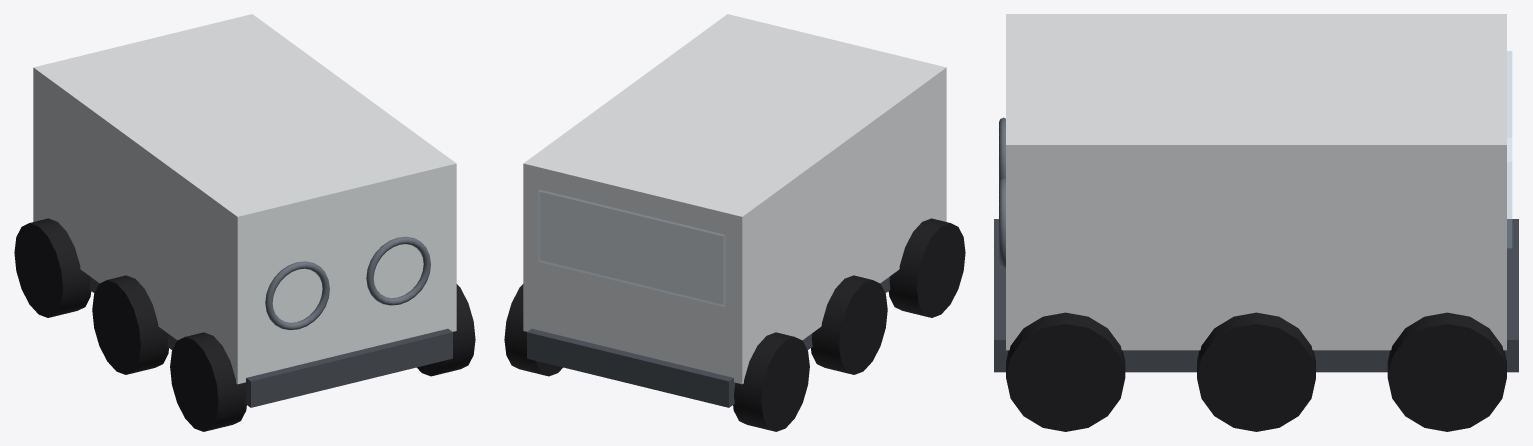
Rendered from pressurised_rover.glb.
3 views of the same model, side by side, from view 1: azimuth 30°, elevation 25°; view 2: azimuth 150°, elevation 25°; view 3: azimuth 270°, elevation 25° (orthographic). The views are drawn at different scales.
Visible parts, largest first — view 1: rover_white_plastic, rover_rubber, rover_dark_metal; view 2: rover_white_plastic, rover_rubber, rover_glass, rover_dark_metal; view 3: rover_white_plastic, rover_rubber, rover_dark_metal, rover_glass.
Part boxes in pixels (box(x1,y1,x2,y2)): rover_white_plastic: box(33, 14, 456, 384); rover_rubber: box(14, 218, 475, 431); rover_dark_metal: box(89, 236, 452, 407); rover_white_plastic: box(523, 14, 946, 384); rover_rubber: box(504, 218, 965, 431); rover_glass: box(538, 190, 724, 306); rover_dark_metal: box(527, 276, 890, 407); rover_white_plastic: box(1006, 14, 1506, 350); rover_rubber: box(1006, 312, 1506, 431); rover_dark_metal: box(994, 117, 1518, 372); rover_glass: box(1507, 51, 1511, 247).
Size of the model in its own units: 3.05 by 2.55 by 4.4.
4 materials, 4 textured.
